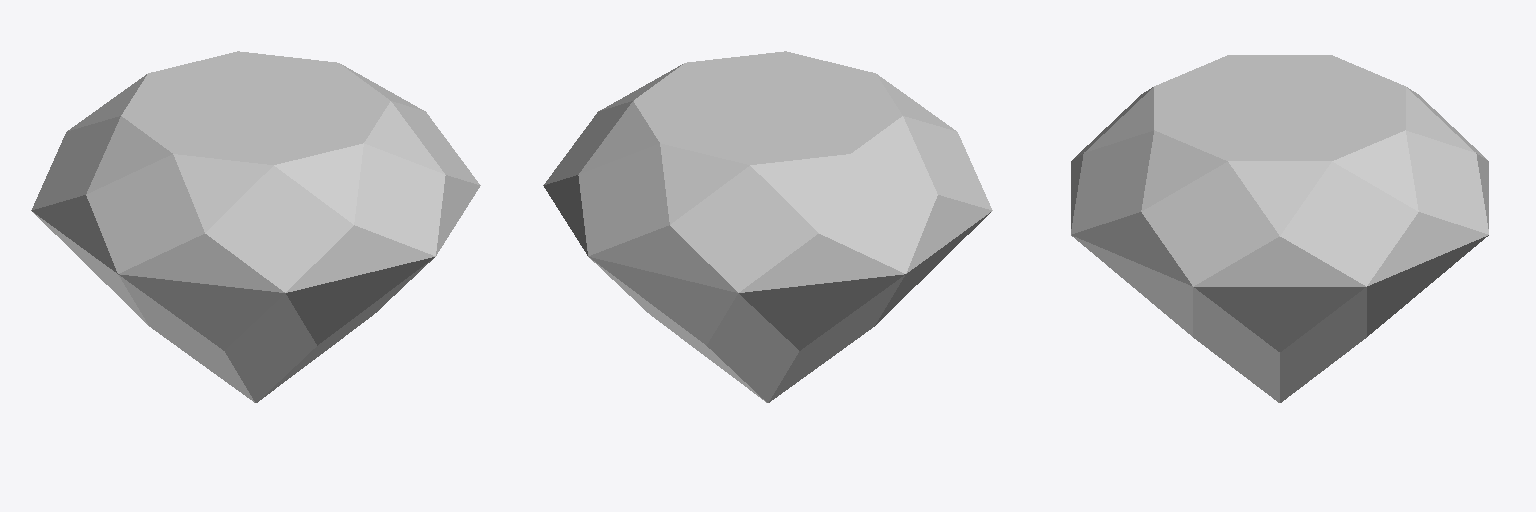
Rendered from Diamond_Word_Raiders.obj.
The picture shows the model from 3 angles: view 1: azimuth 30°, elevation 25°; view 2: azimuth 150°, elevation 25°; view 3: azimuth 270°, elevation 25°; orthographic projection.
Parts seen in each view (by area): view 1: Gem; view 2: Gem; view 3: Gem.
Part boxes in pixels (x1,y1,x2,y2): Gem: (31, 51, 480, 402); Gem: (543, 51, 992, 402); Gem: (1071, 55, 1488, 402).
Bounding box in the file's own units: 7.39 × 5.75 × 7.39.